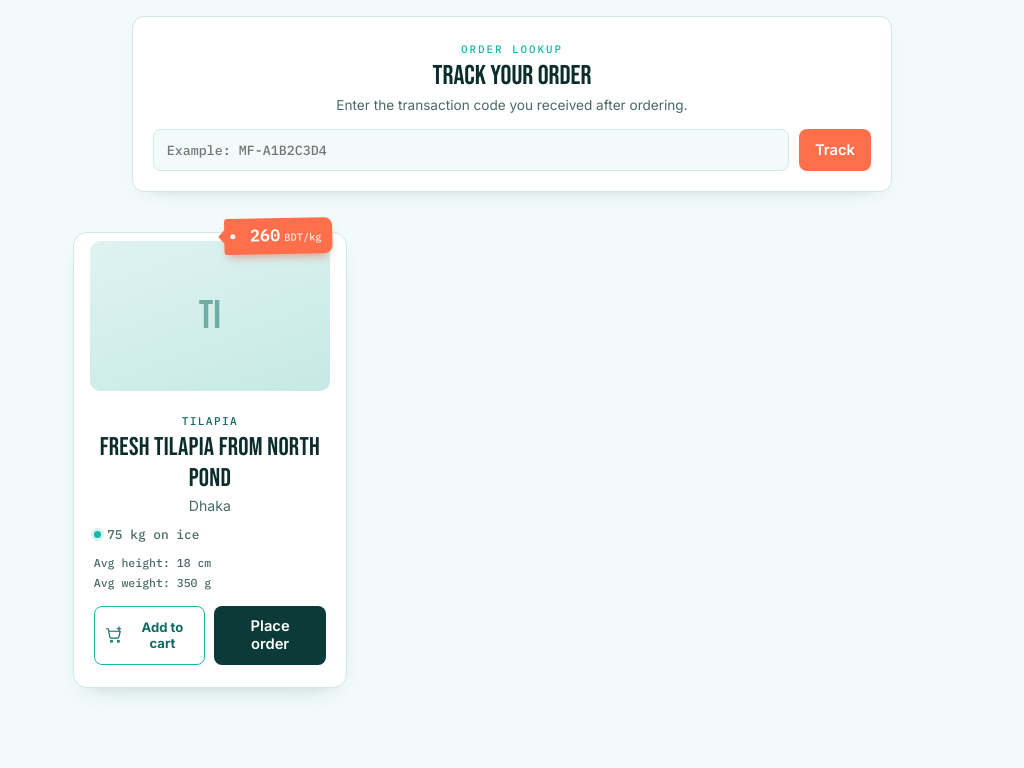
Test: FishStorePage › adds a listing to the cart and places an order
This screenshot has width=1024, height=768.
(page scrolled)
Expected: the heading "Fresh Tilapia from North Pond" is shown, [94, 432, 326, 494]
Click the button "Place order" at (270, 635), box [214, 606, 326, 664]
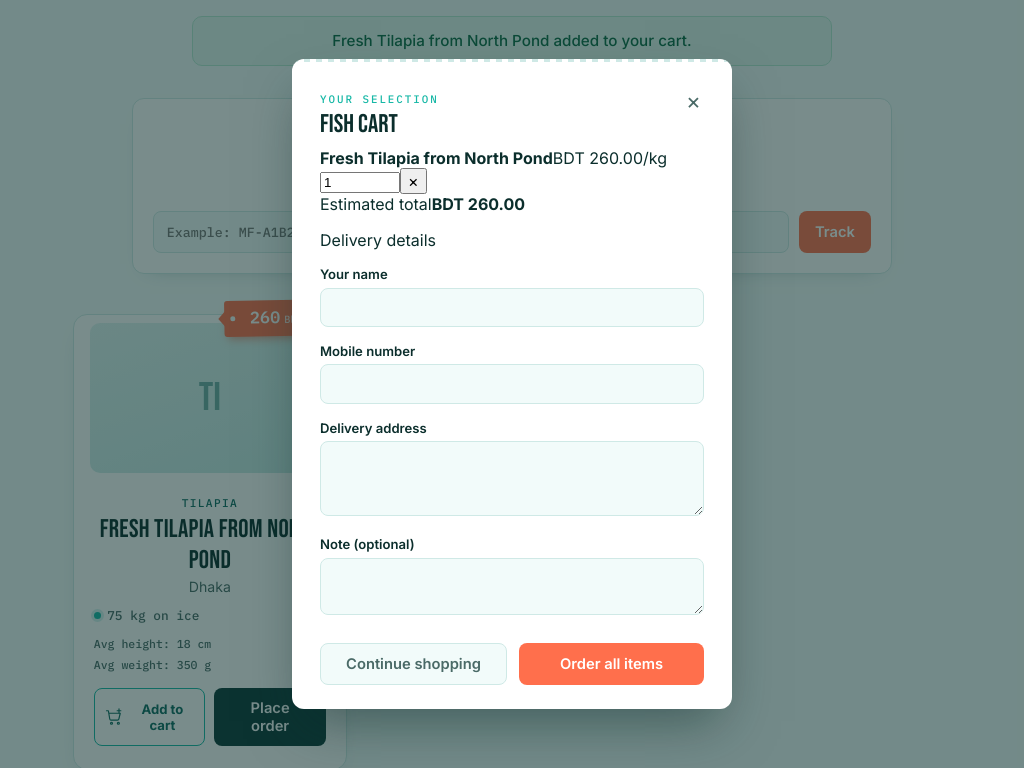
Expected: the heading "Fish cart" is shown, [320, 109, 398, 140]
Type "Test Buyer" into the field labelled "Your name" at (512, 307), box [320, 288, 704, 327]
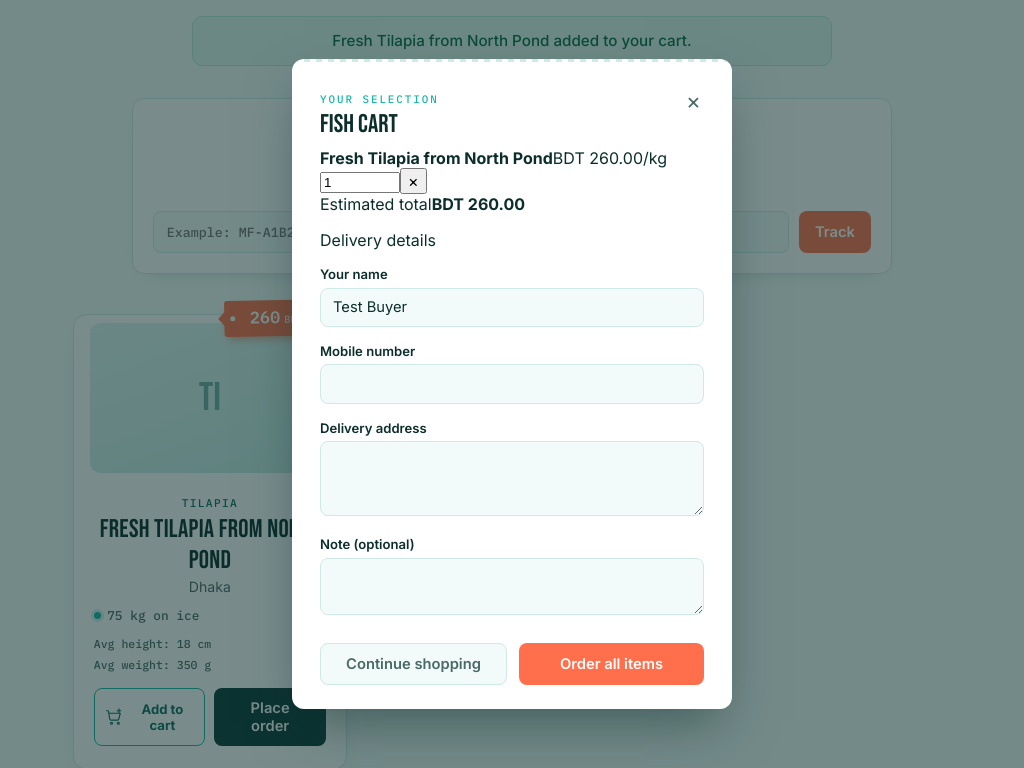
Type "01700000000" into the field labelled "Mobile number" at (512, 384), box [320, 364, 704, 404]
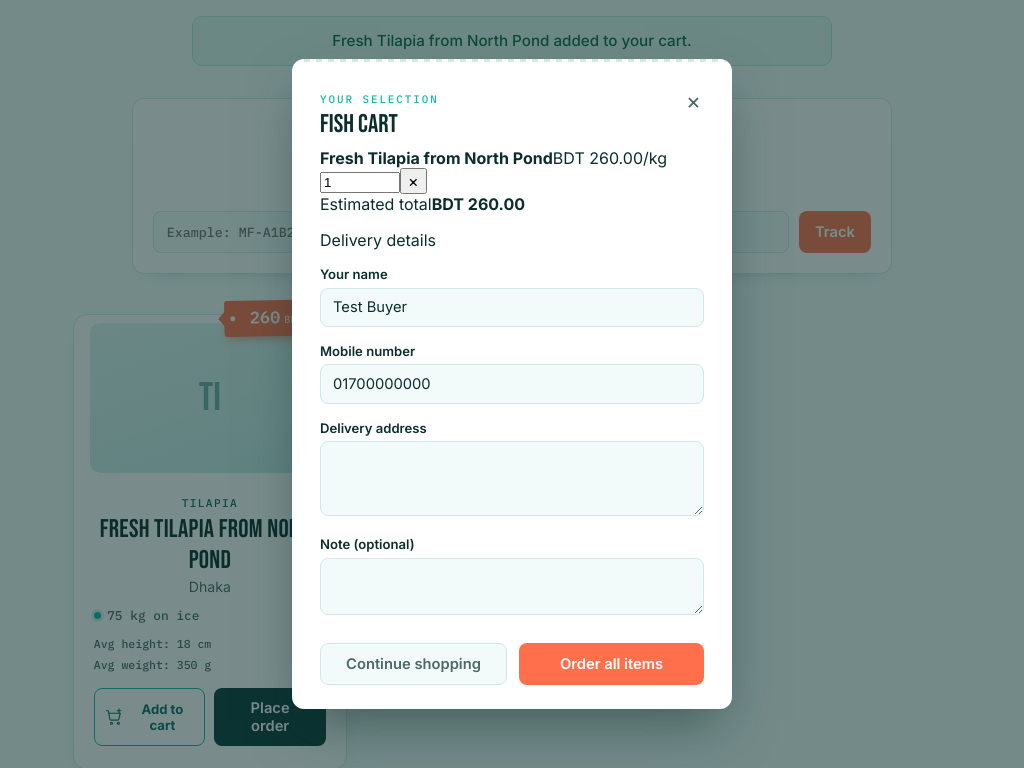
Type "Dhaka" into the text box labelled "Delivery address" at (512, 479), box [320, 441, 704, 516]
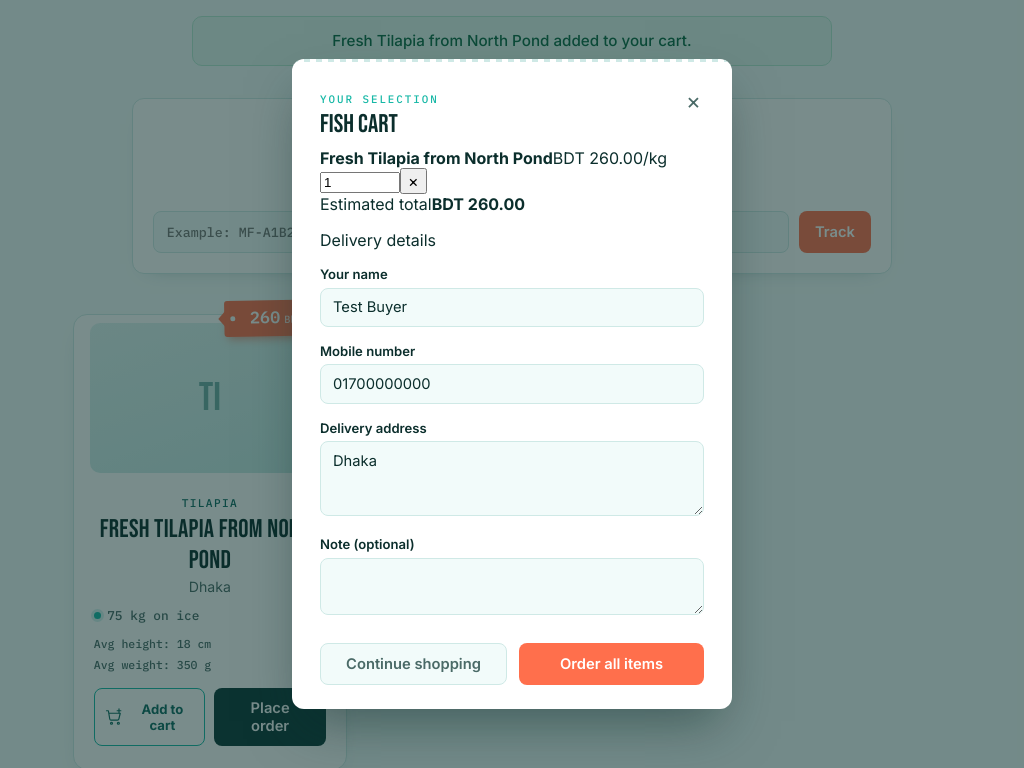
Click the button "Order all items" at (612, 664), box [519, 643, 704, 686]
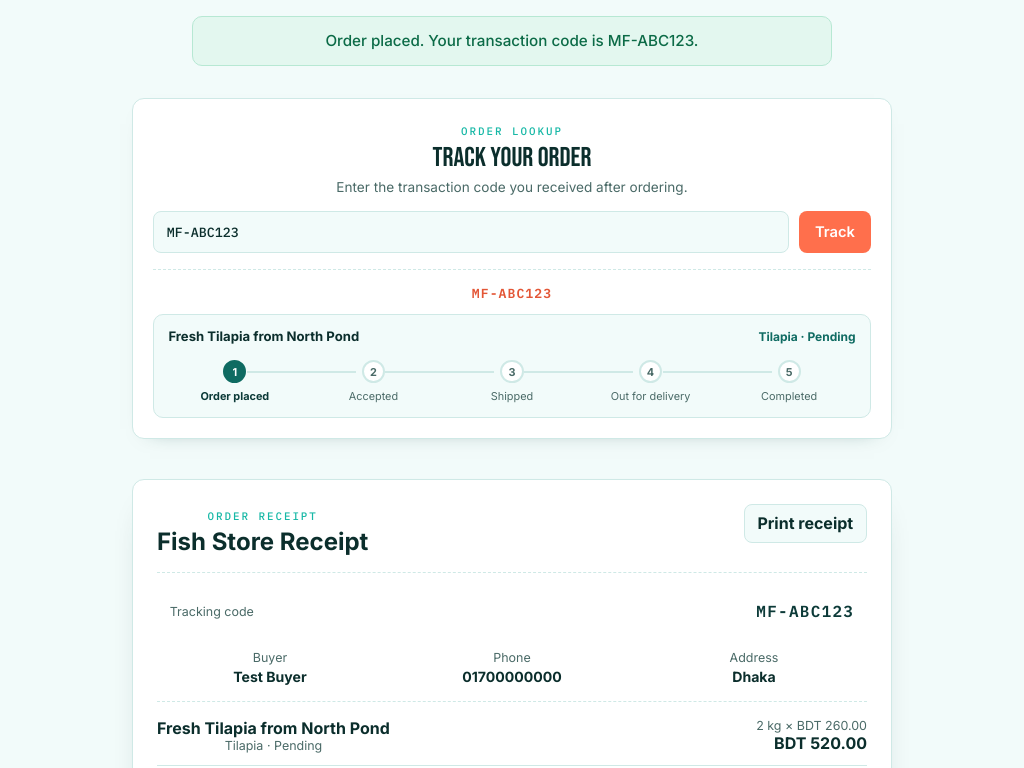
Expected: the text "Order placed. Your transaction code is MF-ABC123." is shown, [192, 16, 832, 66]
